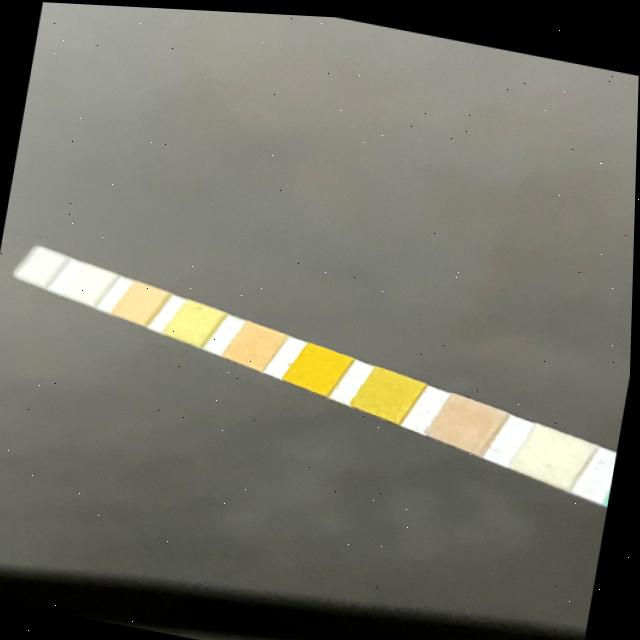Bilirubin: (525, 424, 583, 477)
Blood: (296, 342, 340, 387)
Ketone: (442, 392, 493, 444)
Leukocytes: (26, 246, 50, 283)
Nitrite: (76, 263, 103, 302)
Protein: (177, 299, 210, 341)
SpGravity: (364, 366, 408, 413)
Urobilinogen: (126, 281, 154, 322)
pH: (236, 320, 274, 365)
